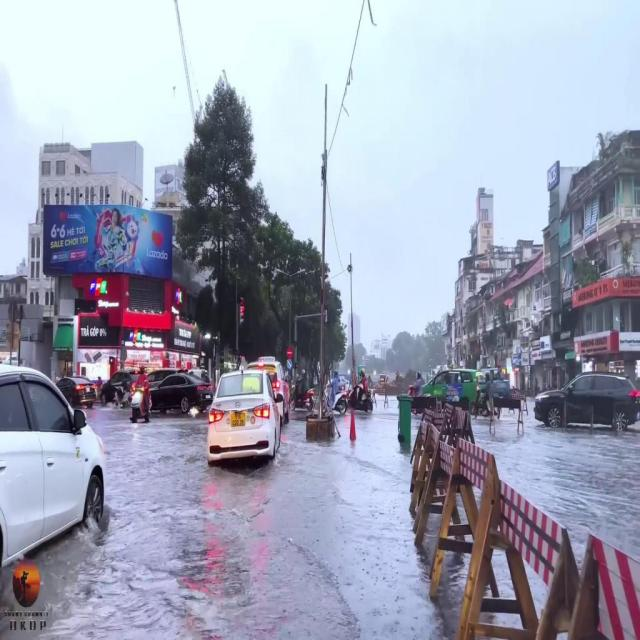cam_xe_di_nguoc_chieu: (286, 347, 292, 357)
huong_phai_di_vuot_chuong_ngai_vat_phai: (287, 359, 292, 370)
